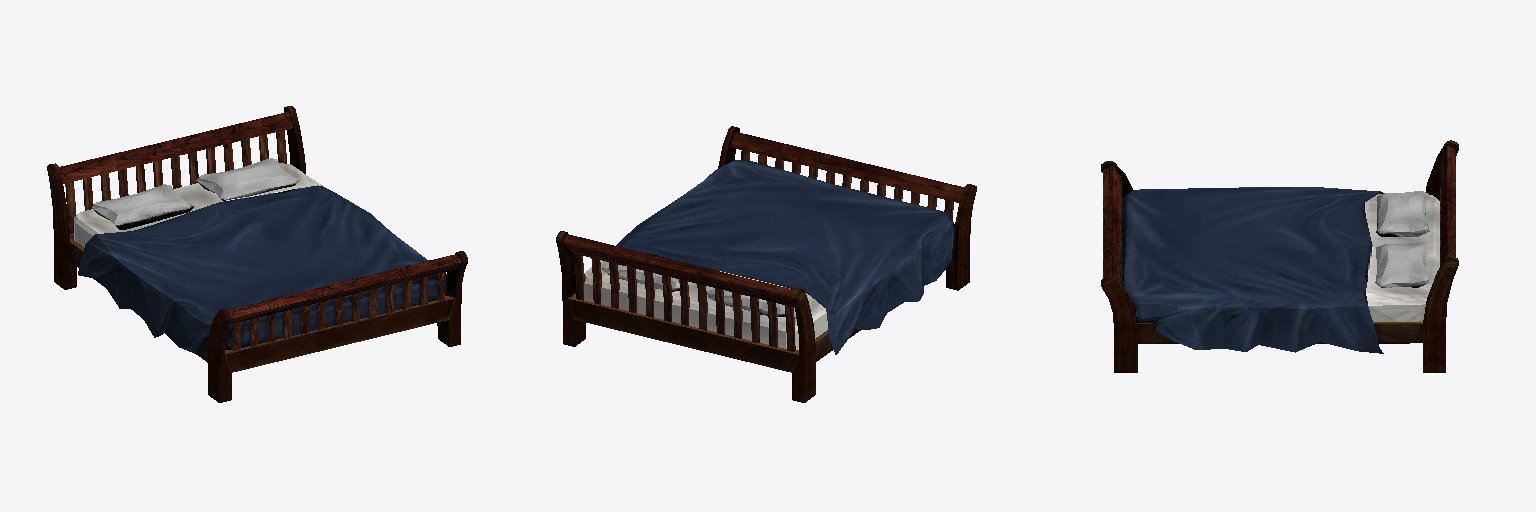
The picture shows the model from 3 angles: view 1: azimuth 30°, elevation 25°; view 2: azimuth 150°, elevation 25°; view 3: azimuth 270°, elevation 25°; orthographic projection.
Visible parts, largest first — view 1: subqueenbed; view 2: subqueenbed; view 3: subqueenbed.
Boxes of the visible parts, x1=… form: subqueenbed: x1=47, y1=106, x2=467, y2=402; subqueenbed: x1=556, y1=126, x2=976, y2=402; subqueenbed: x1=1101, y1=140, x2=1458, y2=372.
Bounding box in the file's own units: 142 × 61.92 × 175.
Materials: 1 (1 with a texture image).